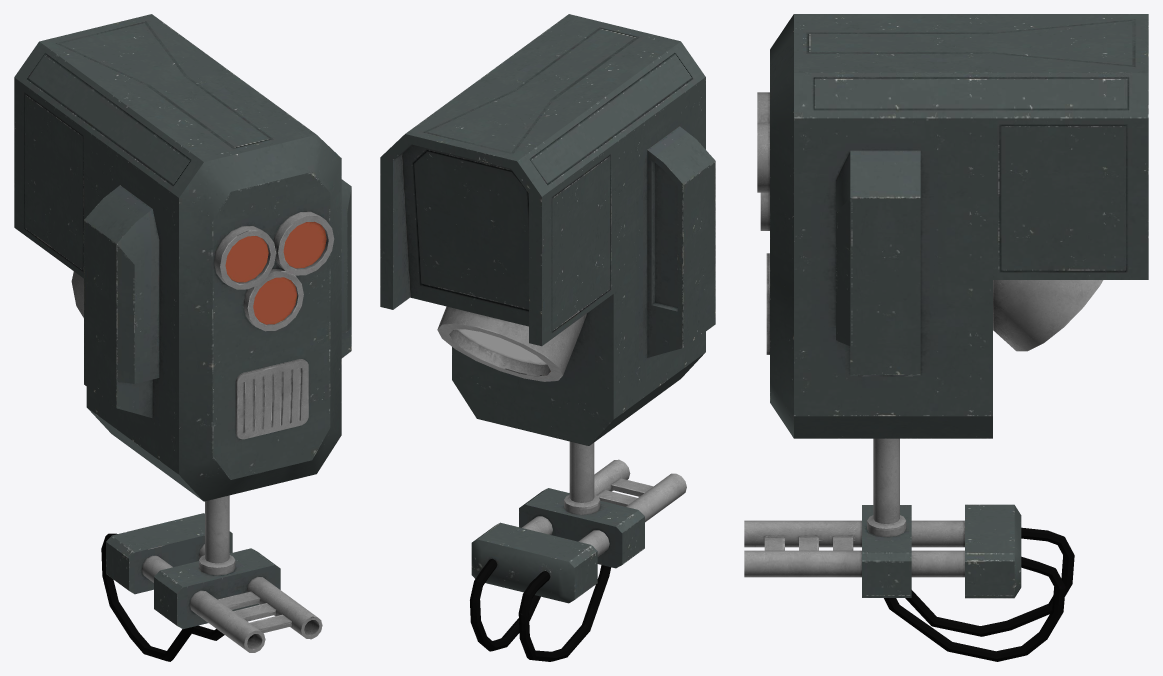
Rendered from SM_Drone_Invader.fbx.
3 renders of one model, left to right at view 1: azimuth 30°, elevation 25°; view 2: azimuth 150°, elevation 25°; view 3: azimuth 270°, elevation 25°, orthographic. The views are drawn at different scales.
Visible parts, largest first — view 1: Robot_Invader; view 2: Robot_Invader; view 3: Robot_Invader.
Part boxes in pixels (<box>): Robot_Invader: <box>14,14,351,661</box>; Robot_Invader: <box>380,14,715,661</box>; Robot_Invader: <box>744,14,1148,661</box>.
Size of the model in its own units: 0.5229 by 0.7234 by 1.2.
